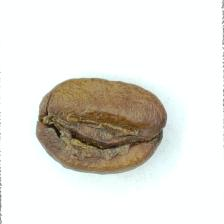NG: (56, 99, 148, 162)
